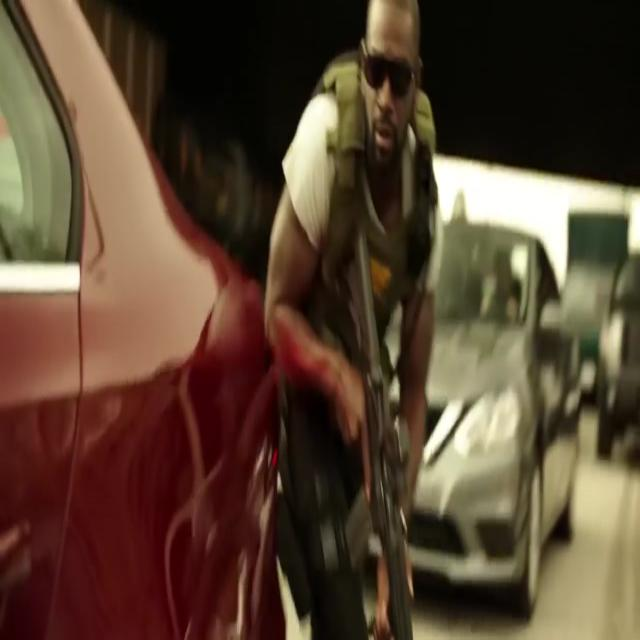Weapon: (320, 208, 427, 618)
